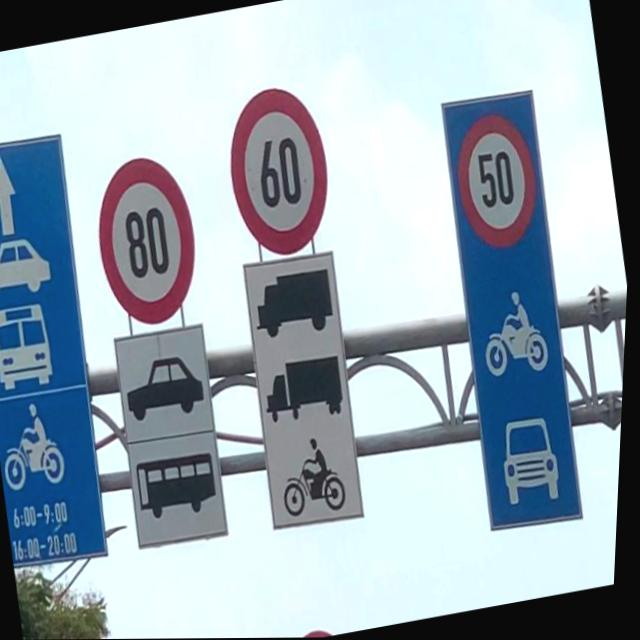Toc do toi da cho phep: (216, 78, 346, 265), (83, 148, 215, 332), (447, 107, 552, 256)
